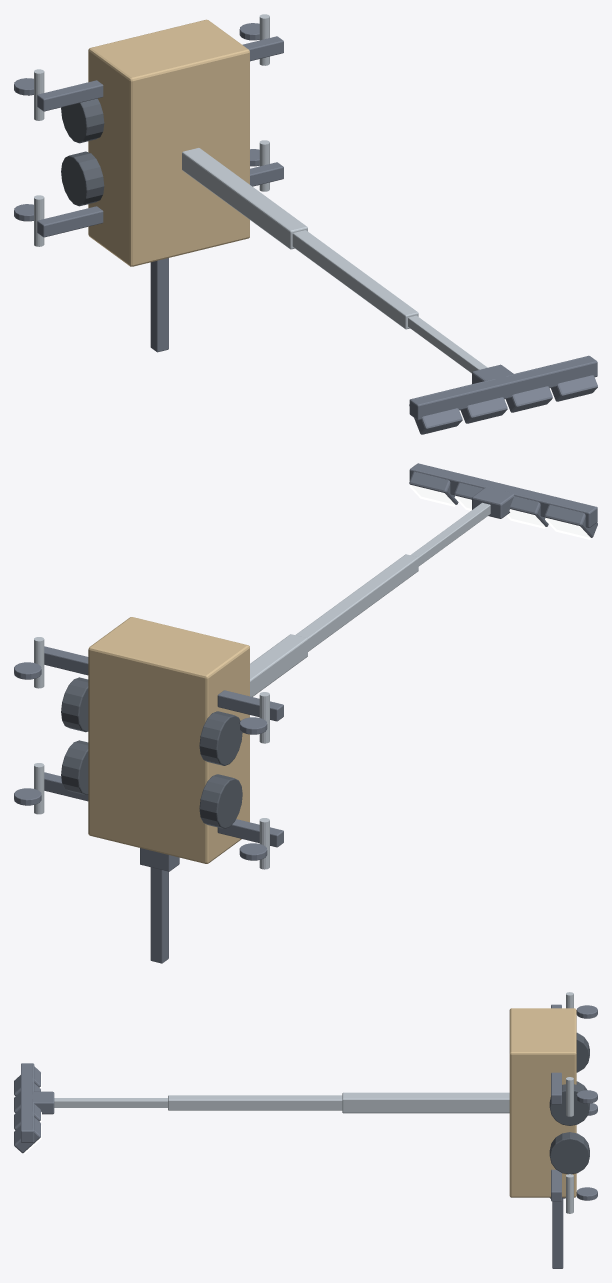
The model's file is light-tower.glb.
The picture shows the model from 3 angles, top to bottom: view 1: azimuth 30°, elevation 25°; view 2: azimuth 150°, elevation 25°; view 3: azimuth 270°, elevation 25°; orthographic projection. The views are drawn at different scales.
Visible parts, largest first — view 1: Base, HeadBar, Mast1, Mast2, Wheel0.001, TowBar, Wheel2.001, Mast3, OutriggerArm0, OutriggerArm2, LampHousing0, LampHousing1 (+4 smaller); view 2: Base, Mast2, HeadBar, Mast1, Wheel0.001, Wheel2.001, TowBar, Mast3, Wheel1.001, Wheel3.001, OutriggerArm2, Bracket (+4 smaller); view 3: Base, Mast1, Mast2, Wheel1.001, Mast3, HeadBar, Wheel3.001, TowBar, Bracket, Wheel2.001, LampHousing3.
Part boxes in pixels (<box>): Base: <box>88,19,249,266</box>; HeadBar: <box>409,355,597,420</box>; Mast1: <box>182,148,307,249</box>; Mast2: <box>292,230,418,329</box>; Wheel0.001: <box>61,151,104,206</box>; TowBar: <box>150,258,168,352</box>; Wheel2.001: <box>61,98,104,143</box>; Mast3: <box>408,315,487,373</box>; OutriggerArm0: <box>37,206,103,237</box>; OutriggerArm2: <box>37,80,103,111</box>; LampHousing0: <box>409,390,462,434</box>; LampHousing1: <box>460,379,507,423</box>; Base: <box>88,617,249,863</box>; Mast2: <box>295,554,418,651</box>; HeadBar: <box>409,463,597,527</box>; Mast1: <box>250,634,307,696</box>; Wheel0.001: <box>199,774,242,828</box>; Wheel2.001: <box>199,711,242,765</box>; TowBar: <box>150,867,168,963</box>; Mast3: <box>410,502,490,566</box>; Wheel1.001: <box>61,740,88,795</box>; Wheel3.001: <box>61,677,88,732</box>; OutriggerArm2: <box>217,690,283,721</box>; Bracket: <box>472,485,515,518</box>; Base: <box>509,1008,576,1197</box>; Mast1: <box>342,1092,509,1113</box>; Mast2: <box>168,1095,342,1110</box>; Wheel1.001: <box>549,1132,589,1174</box>; Mast3: <box>54,1098,167,1107</box>; HeadBar: <box>21,1063,34,1142</box>; Wheel3.001: <box>549,1084,589,1125</box>; TowBar: <box>552,1198,563,1268</box>; Bracket: <box>29,1091,54,1114</box>; Wheel2.001: <box>576,1032,589,1072</box>; LampHousing3: <box>14,1116,40,1153</box>.
Bounding box in the file's own units: 1.66 × 1.95 × 4.36.
